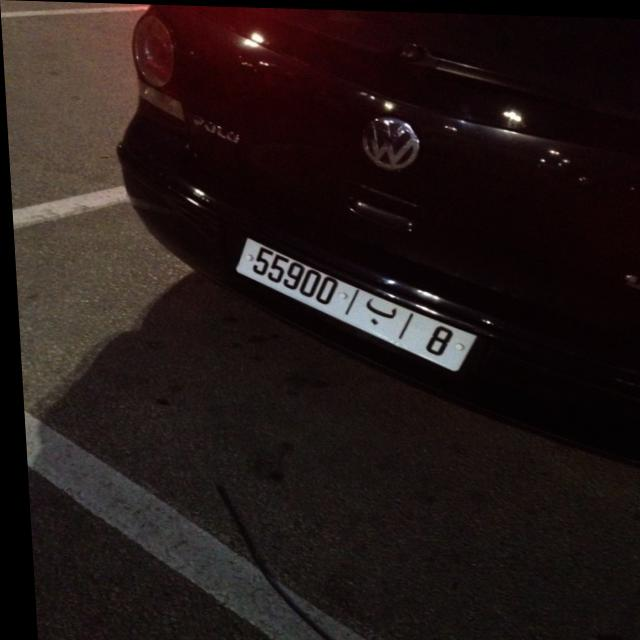License-Plate: (232, 237, 472, 368)
